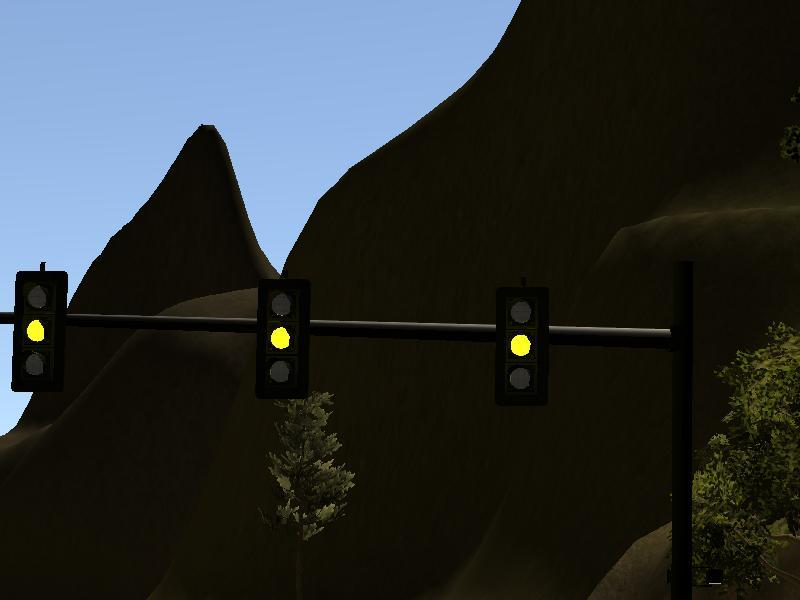Yellow: (491, 285, 549, 406), (12, 271, 69, 392), (254, 279, 309, 399)
